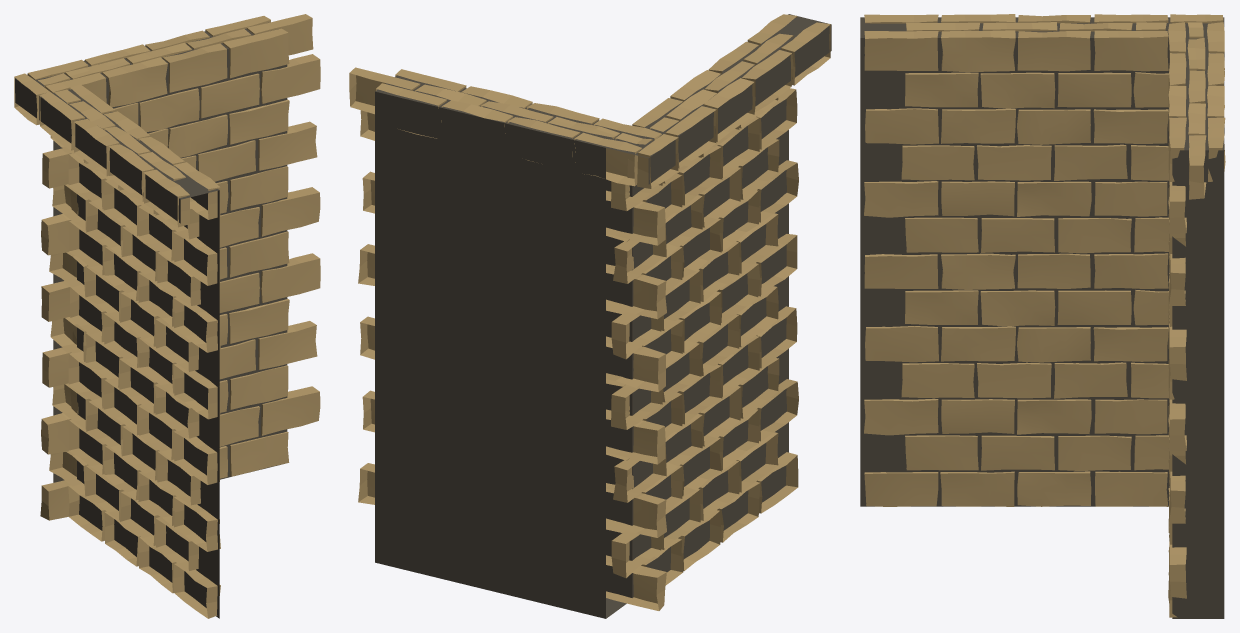
File: Wall_Corner.fbx
3 renders of one model, left to right at view 1: azimuth 30°, elevation 25°; view 2: azimuth 150°, elevation 25°; view 3: azimuth 270°, elevation 25°, orthographic. The views are drawn at different scales.
Parts seen in each view (by area): view 1: Plane; view 2: Plane; view 3: Plane.
Boxes of the visible parts, <box> form: Plane: <box>14,14,320,618</box>; Plane: <box>349,14,831,618</box>; Plane: <box>860,14,1225,618</box>.
Bounding box in the file's own units: 248 × 357 × 251.
